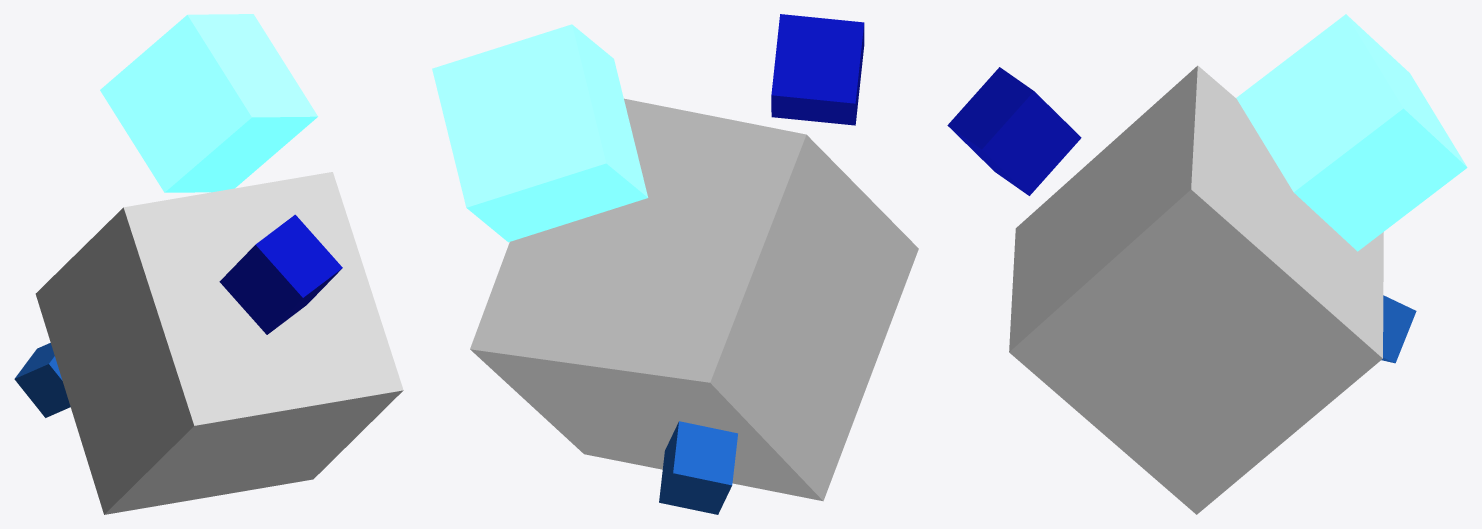
Rendered from item .fbx.
3 views of the same model, side by side, from view 1: azimuth 30°, elevation 25°; view 2: azimuth 150°, elevation 25°; view 3: azimuth 270°, elevation 25° (orthographic). The views are drawn at different scales.
Parts seen in each view (by area): view 1: Cube, Cube.001, Cube.003, Cube.002; view 2: Cube, Cube.001, Cube.003, Cube.002; view 3: Cube, Cube.001, Cube.003, Cube.002.
Boxes of the visible parts, x1=… form: Cube: x1=35, y1=172, x2=403, y2=514; Cube.001: x1=100, y1=14, x2=317, y2=192; Cube.003: x1=219, y1=214, x2=342, y2=334; Cube.002: x1=14, y1=343, x2=70, y2=417; Cube: x1=470, y1=98, x2=918, y2=501; Cube.001: x1=432, y1=24, x2=648, y2=242; Cube.003: x1=771, y1=14, x2=864, y2=125; Cube.002: x1=659, y1=421, x2=737, y2=514; Cube: x1=1009, y1=65, x2=1383, y2=514; Cube.001: x1=1236, y1=14, x2=1467, y2=251; Cube.003: x1=947, y1=67, x2=1081, y2=195; Cube.002: x1=1381, y1=295, x2=1416, y2=363.
Bounding box in the file's own units: 176 × 277 × 277.
